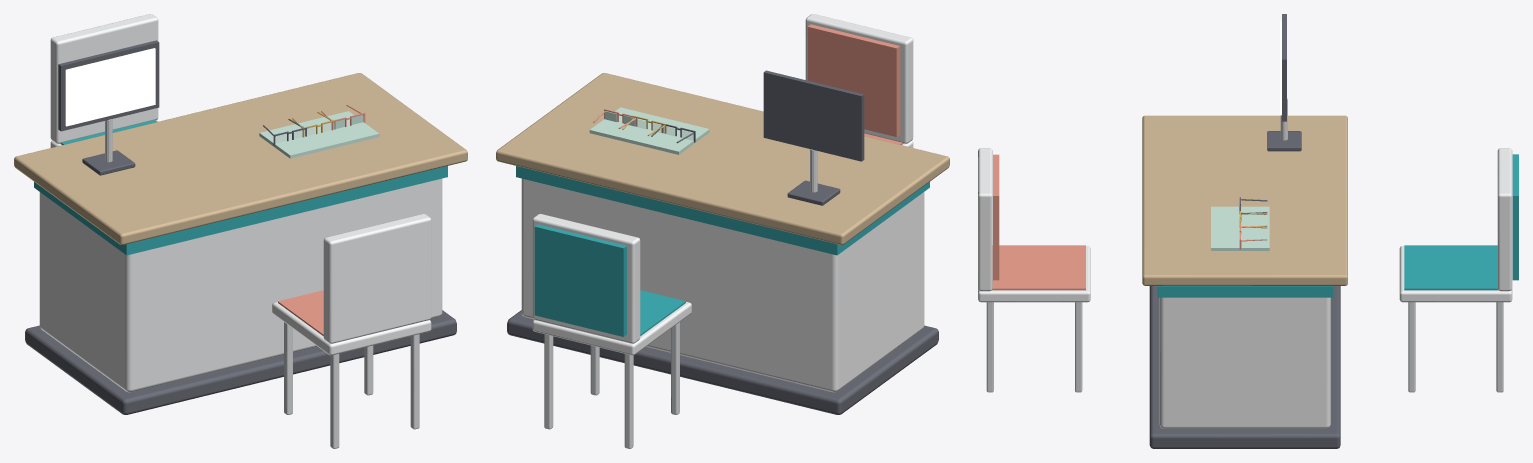
The picture shows the model from 3 angles, left to right: view 1: azimuth 30°, elevation 25°; view 2: azimuth 150°, elevation 25°; view 3: azimuth 270°, elevation 25°; orthographic projection. The views are drawn at different scales.
Visible parts, largest first — view 1: dispensing-desk; view 2: dispensing-desk; view 3: dispensing-desk.
Boxes of the visible parts, x1,y1,x2,y2 form: dispensing-desk: (14, 14, 467, 448); dispensing-desk: (496, 14, 949, 448); dispensing-desk: (978, 14, 1518, 448).
Size of the model in its own units: 1.56 by 1.28 by 2.21.
